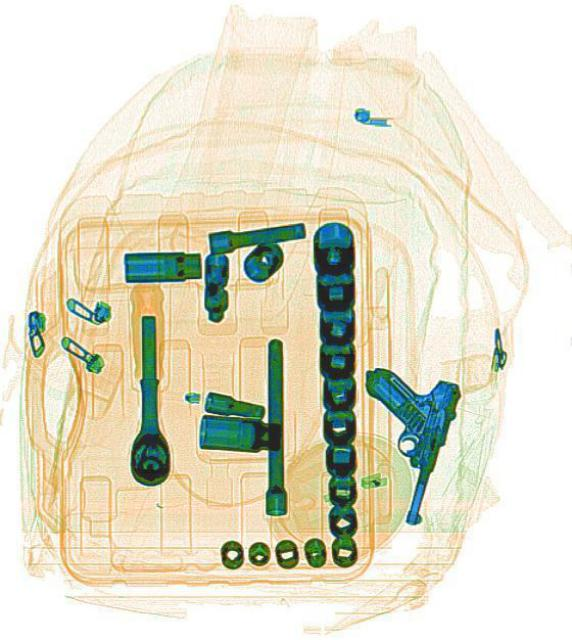Gun: (325, 354, 462, 526)
